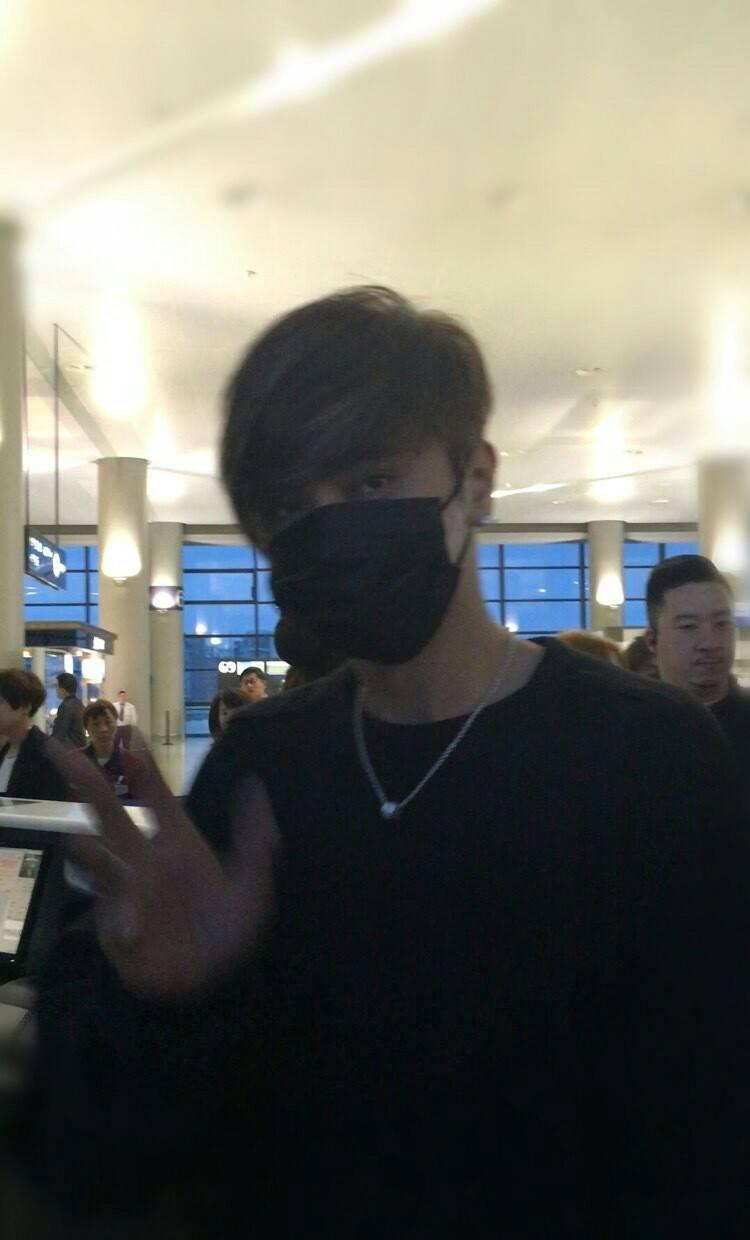NONE: (668, 610, 734, 686), (90, 716, 121, 745), (243, 678, 263, 699)
OK: (252, 432, 485, 665)
